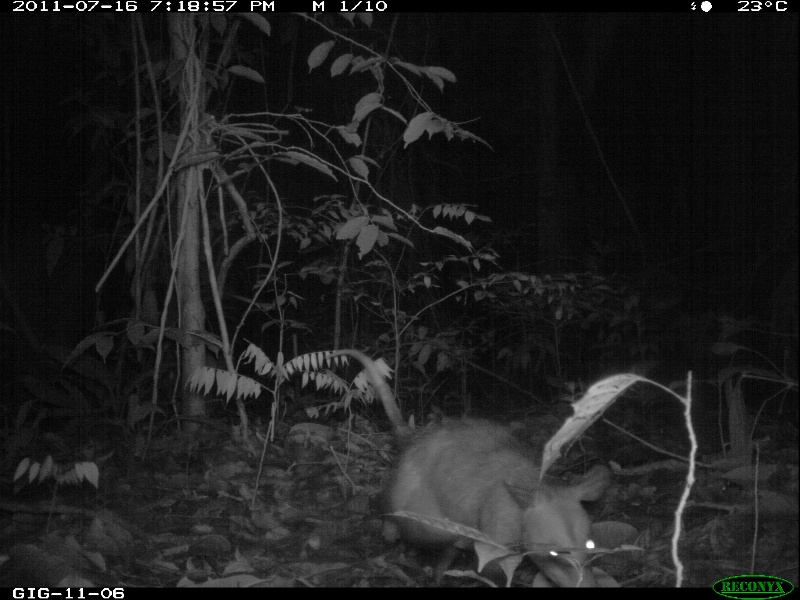opossum: (317, 347, 607, 586)
